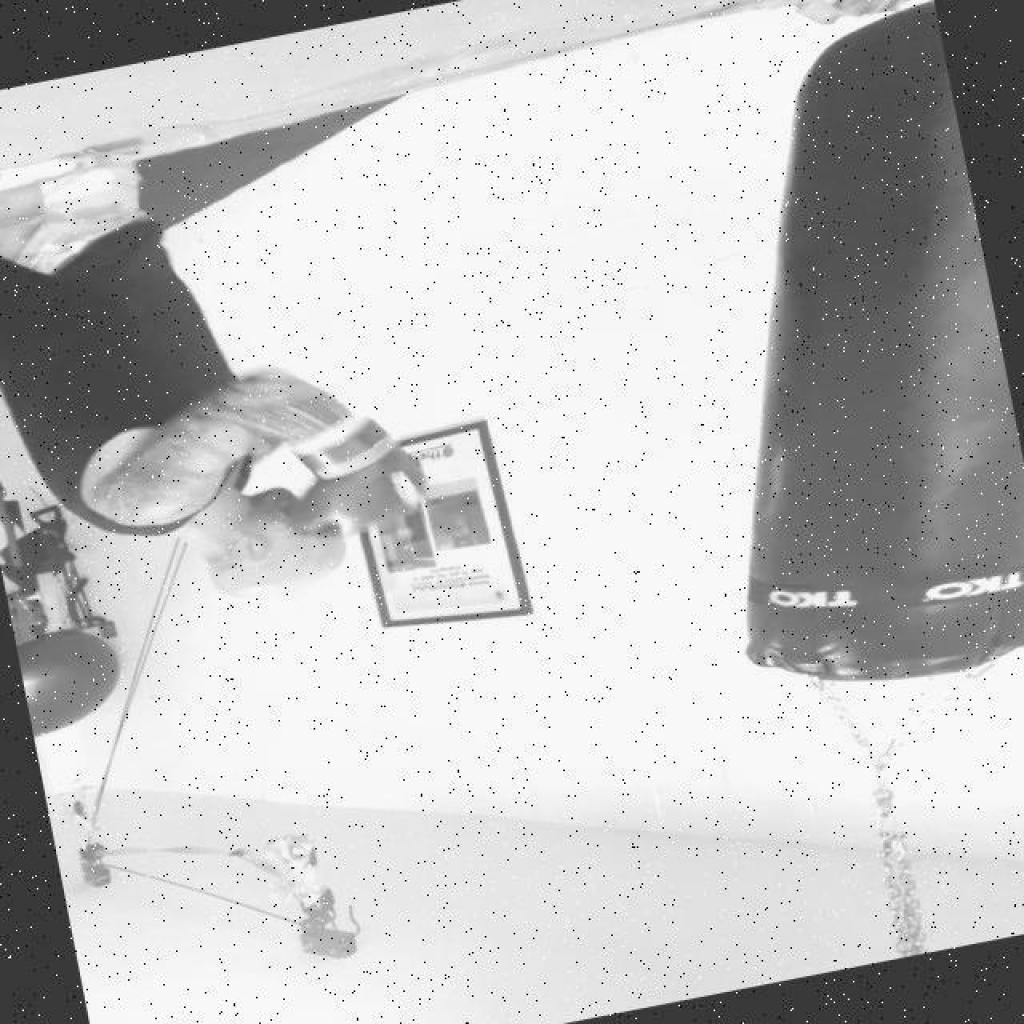bag: (637, 8, 1024, 717)
no punch: (34, 336, 484, 630)
